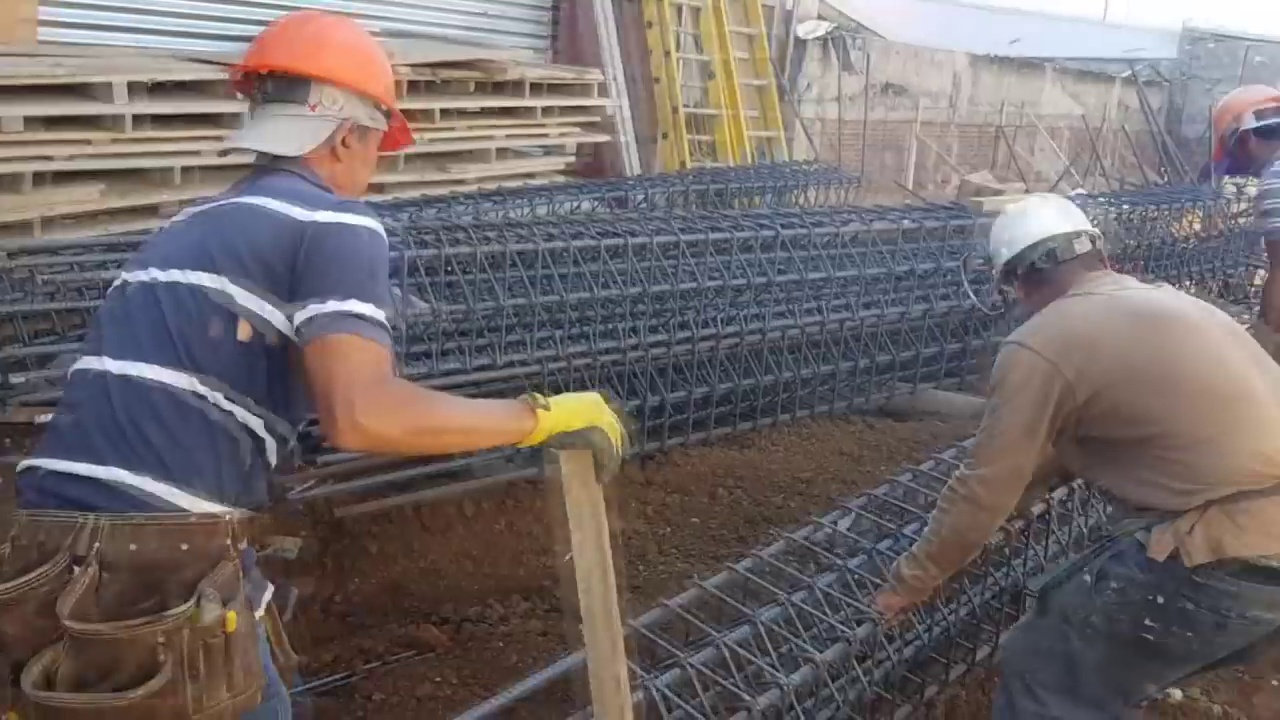helmet: (226, 6, 415, 126), (988, 194, 1114, 282), (1212, 84, 1277, 158)
helmet-on: (224, 9, 418, 202), (984, 185, 1119, 317), (1195, 78, 1280, 190)
person: (21, 0, 619, 720), (868, 185, 1280, 718)
